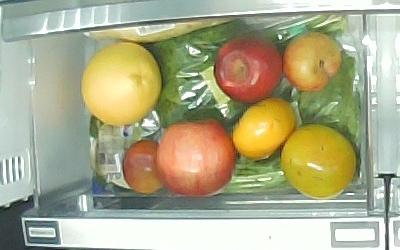apple: (157, 118, 237, 196), (214, 35, 284, 102)
grapefruit: (81, 42, 162, 127)
persimmon: (282, 124, 356, 200), (233, 97, 298, 162)
prune: (283, 31, 342, 93), (122, 140, 163, 194)
